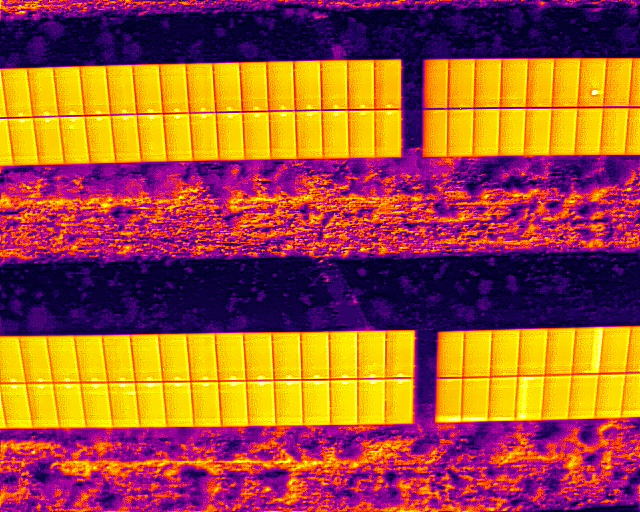photovoltaic_panels: (1, 58, 403, 167), (0, 329, 417, 430), (420, 57, 639, 158), (433, 325, 638, 424)
single_spot: (577, 57, 607, 107)
stripe_spot: (571, 327, 603, 375), (515, 374, 544, 421)
